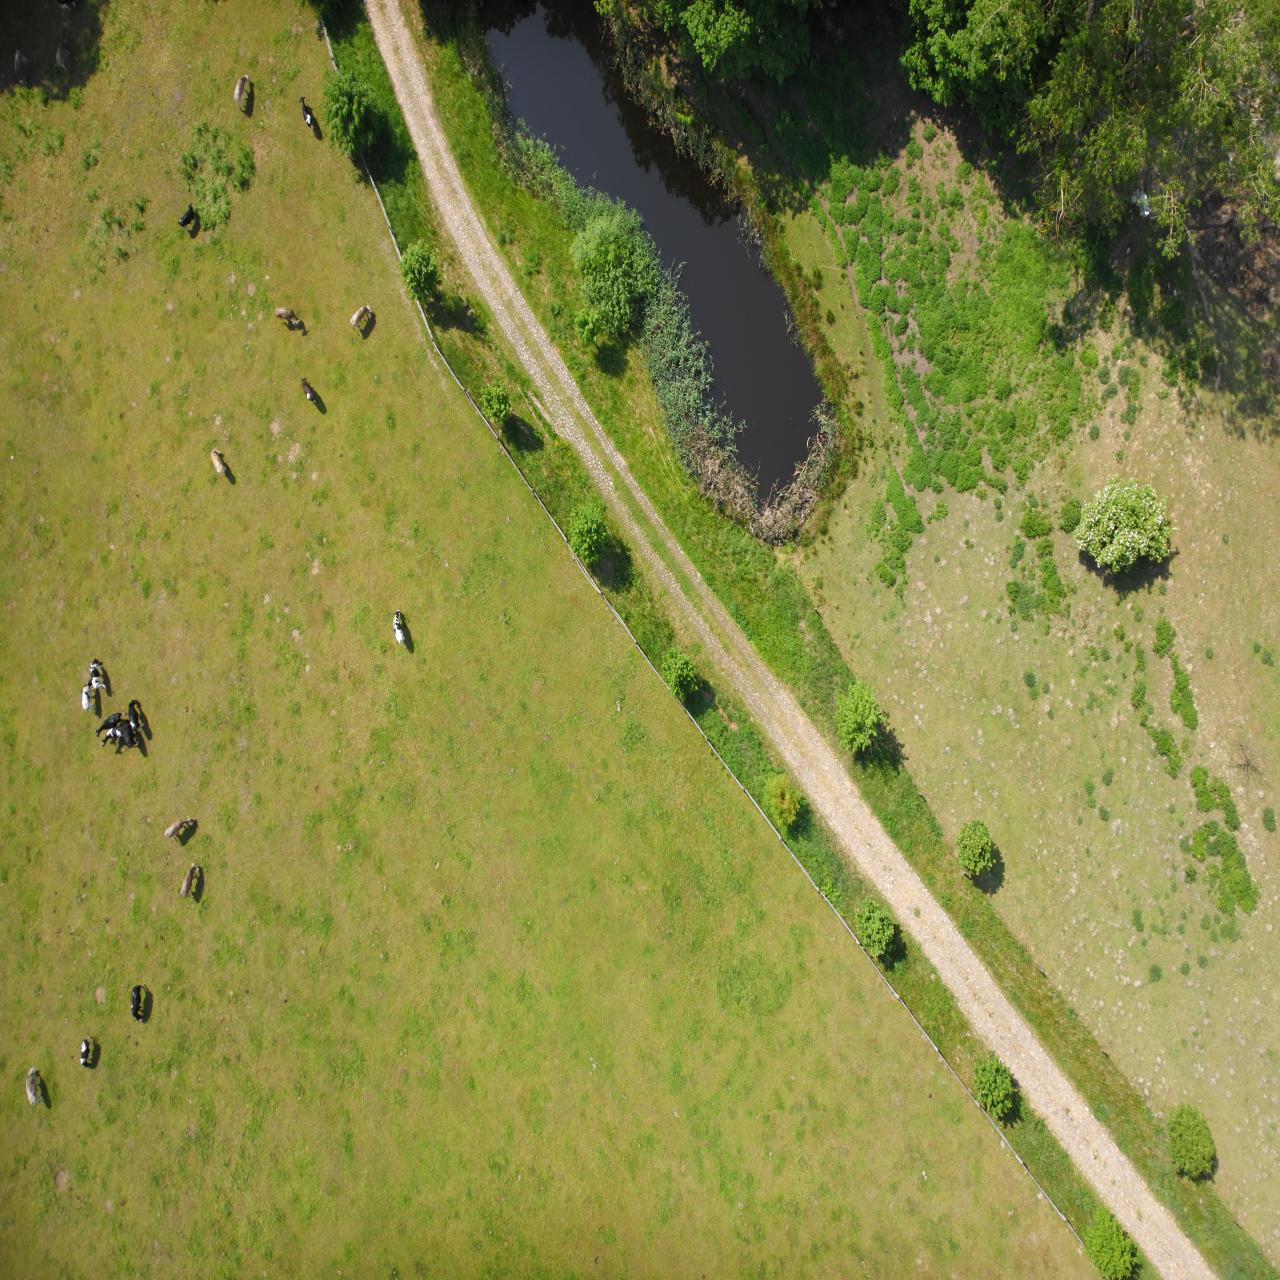cow: (1156, 543, 1186, 567), (964, 1142, 981, 1184), (1237, 175, 1254, 215), (1084, 442, 1115, 464), (1081, 382, 1099, 416), (980, 949, 1006, 973), (907, 949, 930, 975), (1030, 1170, 1046, 1206), (1135, 549, 1151, 581), (1173, 590, 1190, 622), (1136, 257, 1149, 298), (874, 634, 887, 670), (1141, 532, 1157, 560), (1156, 533, 1178, 553), (1053, 805, 1069, 831), (1085, 1051, 1102, 1077), (1186, 567, 1198, 600), (1189, 212, 1200, 244), (965, 878, 979, 903)
